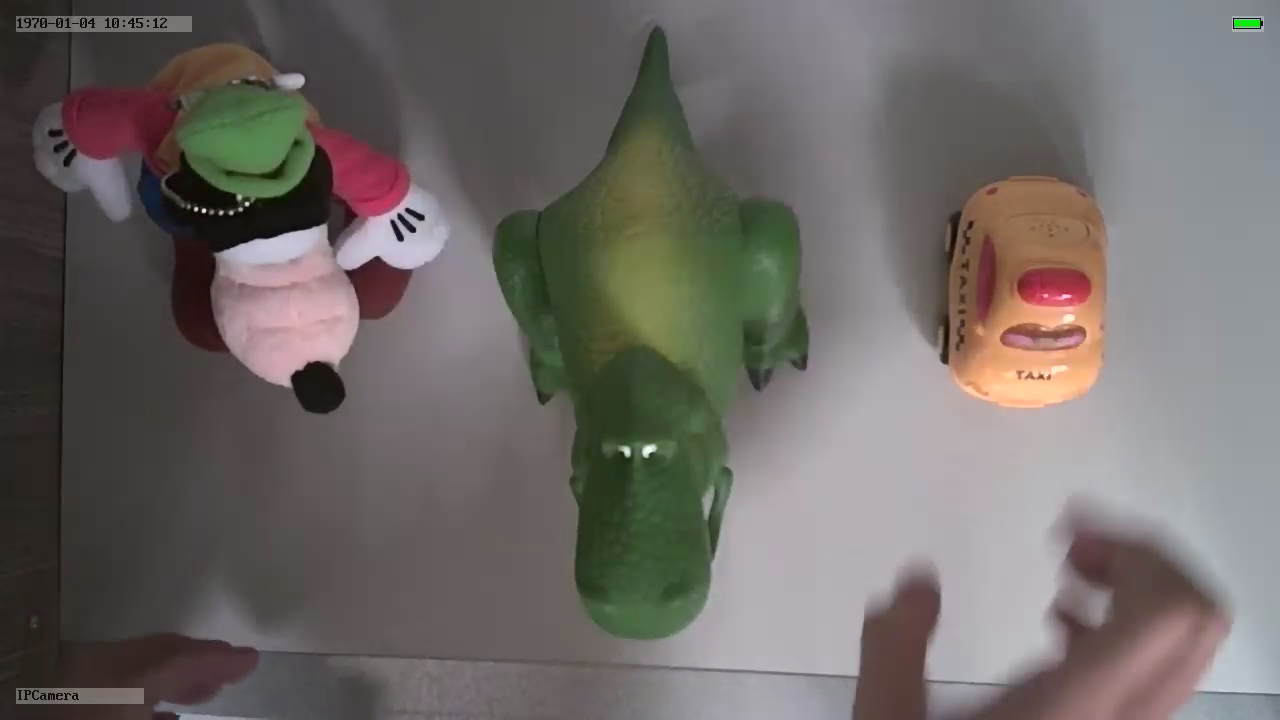goofy: (30, 41, 449, 411)
